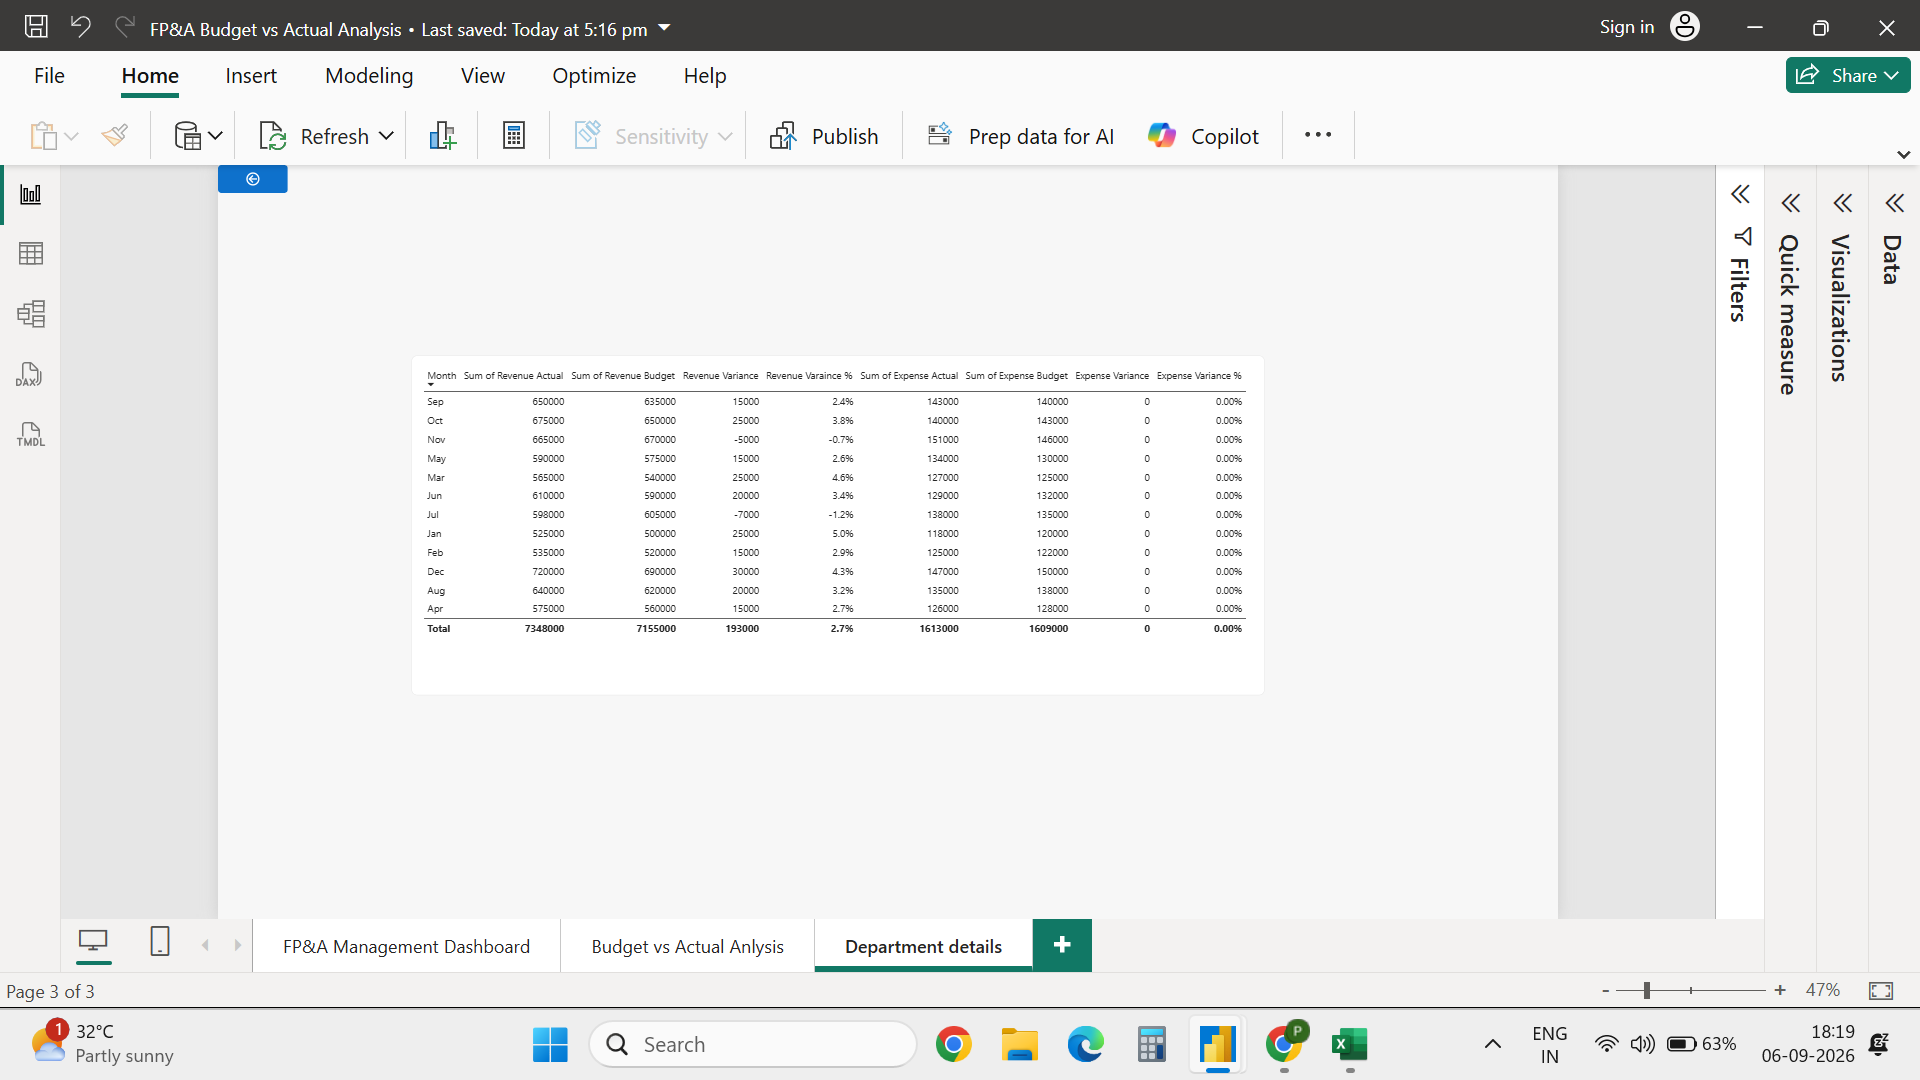

This screenshot's page, from the dashboard's own definition file:
{"tool":"powerbi","page":{"name":"Department details ","canvas":[1920,1080],"ordinal":2},"visuals":[{"type":"actionButton","box":[0,0,100,40],"z":1},{"type":"tableEx","fields":{"Values":["RawDataTable.Month","Sum(RawDataTable.Revenue Actual)","Sum(RawDataTable.Revenue Budget)","RawDataTable.Revenue Variance","RawDataTable.Revenue Varaince %","Sum(RawDataTable.Expense Actual)","Sum(RawDataTable.Expense Budget)","RawDataTable.Expense Variance","RawDataTable.Expense Variance %"]},"box":[277.8,271.9,1221.9,487],"z":2}]}

Visuals, with their boxes on the page's 1920x1080 design canvas (x1, y1, x2, y2). These are canvas units, not pixel positions in the 1920x1080 screenshot, which may show the page scaled, cropped or inside an application window:
actionButton: (0,0,100,40)
tableEx - RawDataTable.Month x Sum(RawDataTable.Revenue Actual): (278,272,1500,759)
